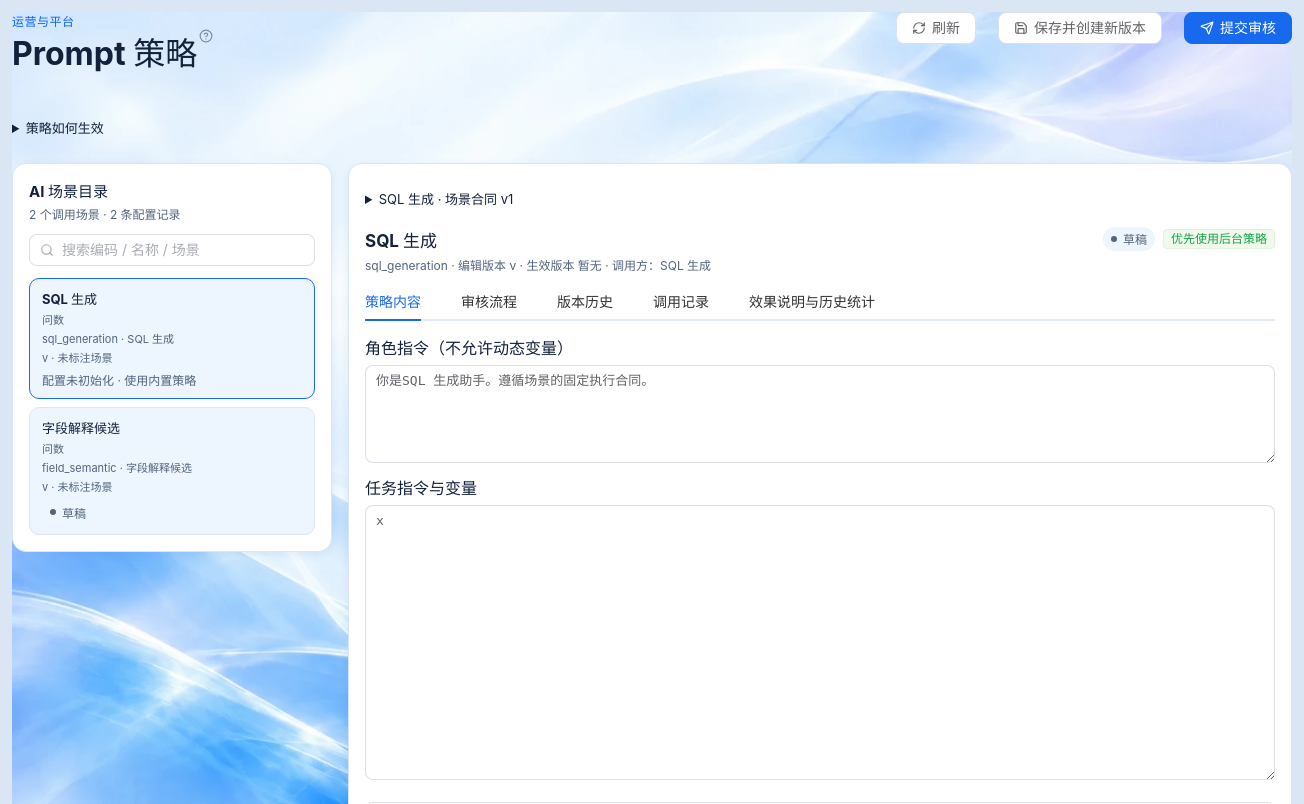
it: PromptsView 的能力控制 › 保存后的旧列表刷新不能覆盖浏览器切换的新场景和草稿
What coordinates should you click on to do the following:
click the button "保存并创建新版本"
I would click on:
 (1080, 28)
Its box is [998, 12, 1162, 44].
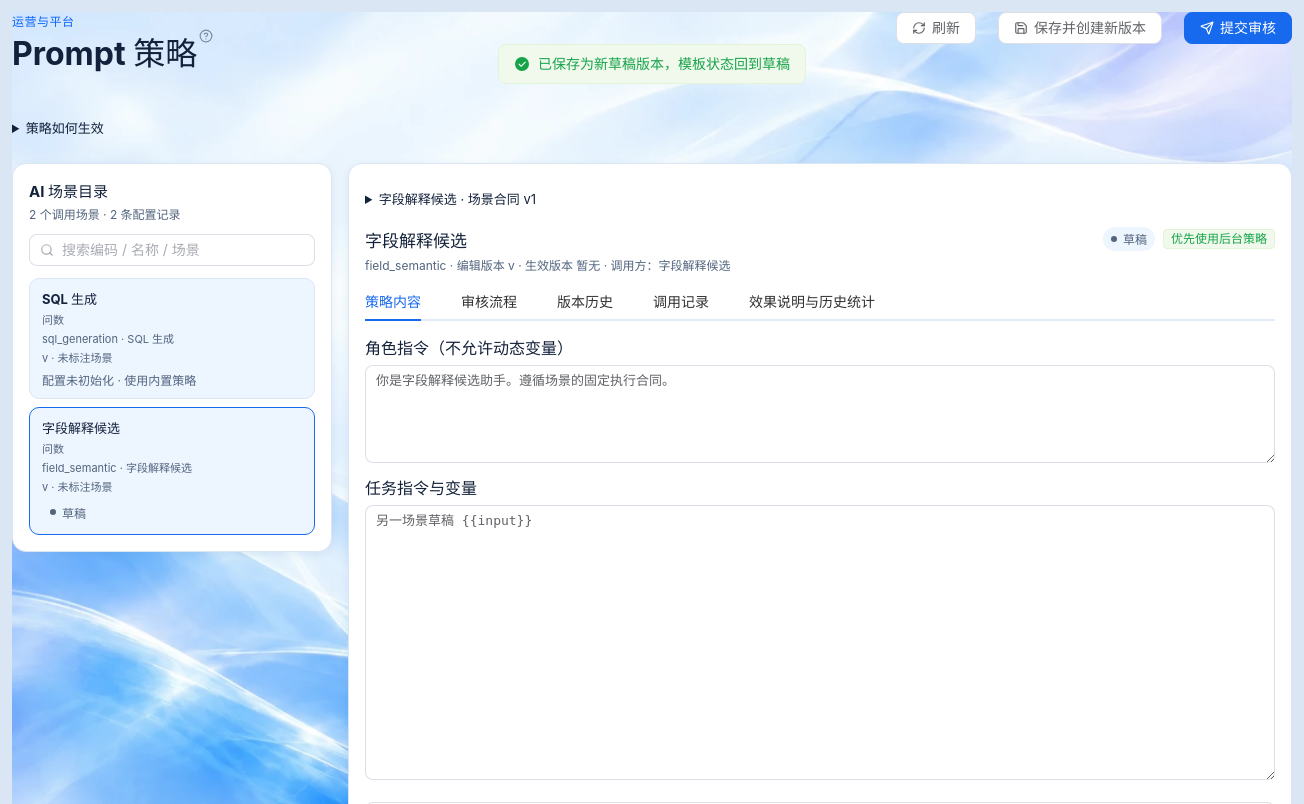
Check: the heading "字段解释候选" is shown, box [365, 231, 467, 251]
Check: the text box labelled "任务指令与变量" holds "另一场景草稿 {{input}}", box [365, 505, 1275, 780]
